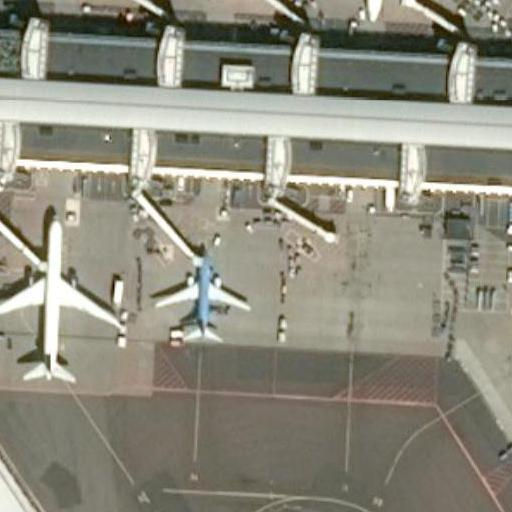Aircraft: (0, 212, 119, 386), (144, 245, 238, 348), (297, 0, 453, 24)
